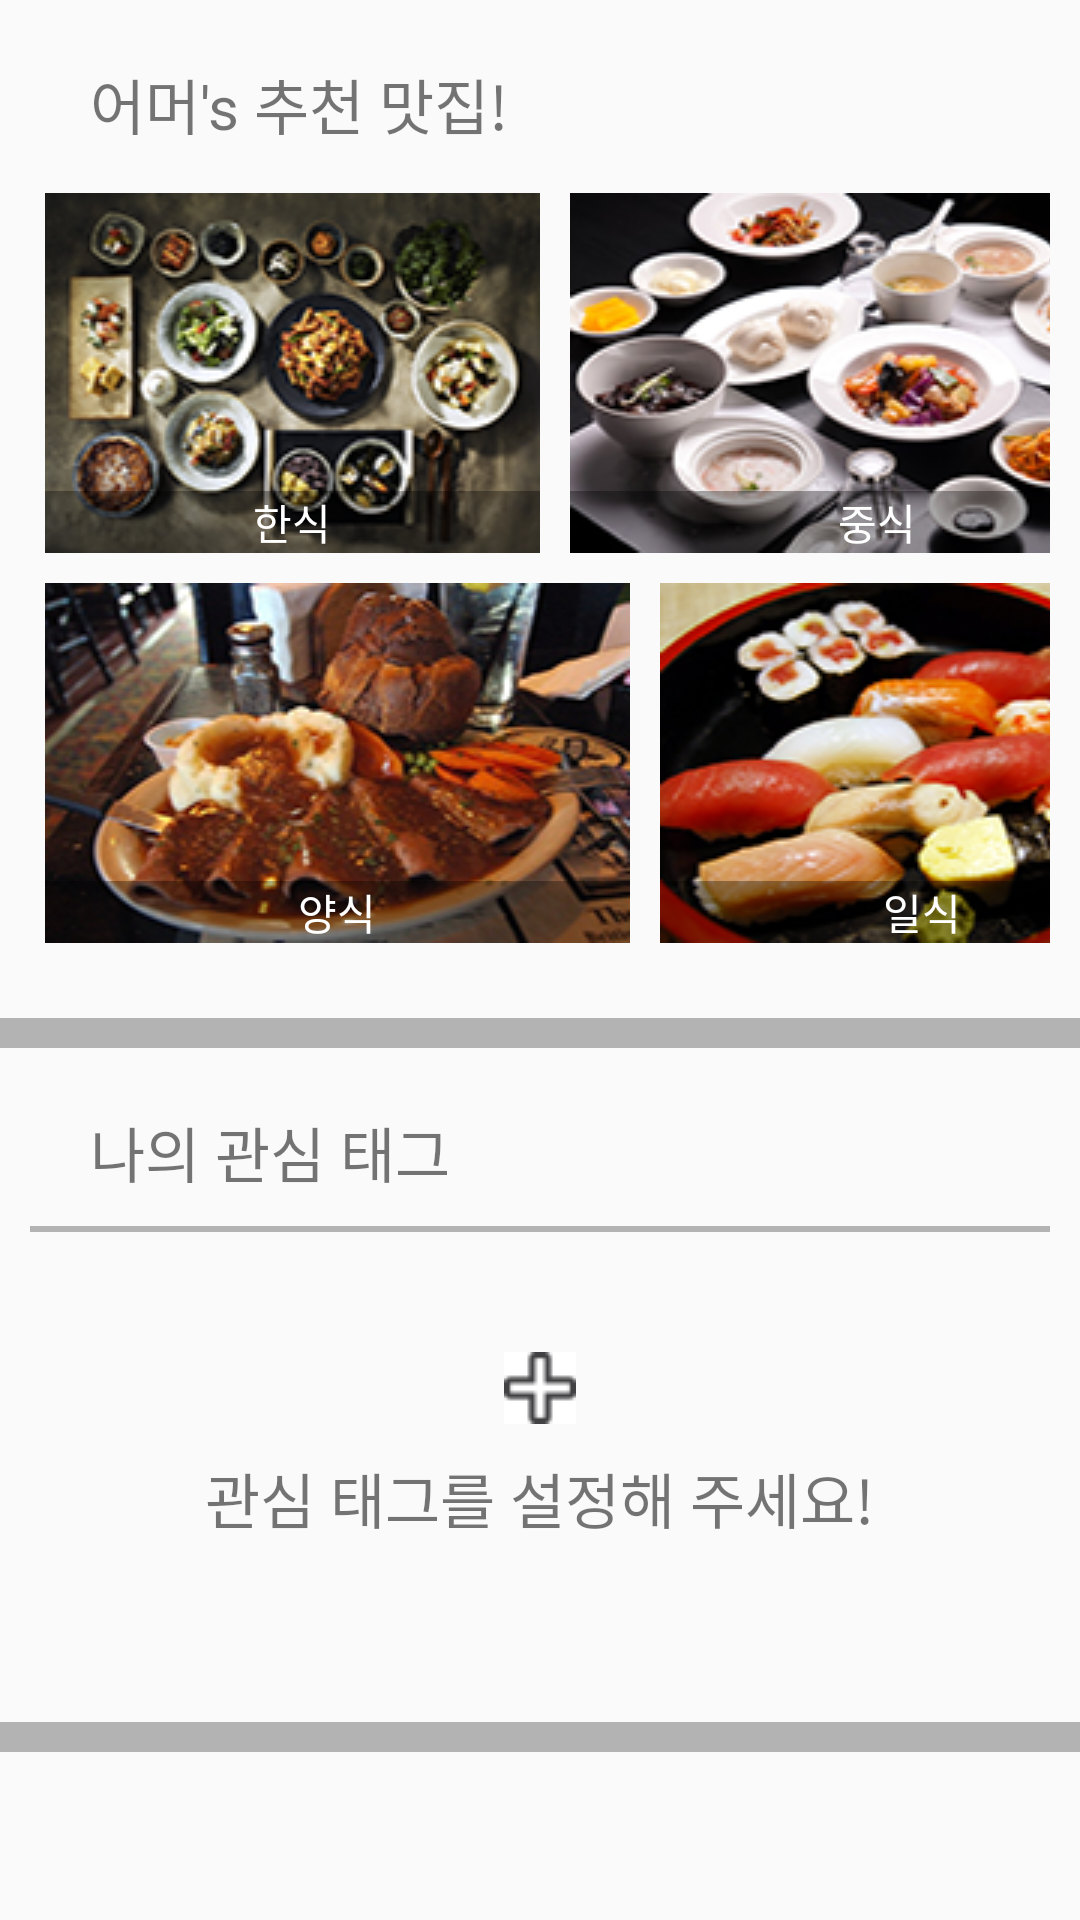

Named icons in this screenshot (1080w x 1920h) and their bounding boxes, (left=x1, top=y1, right=x2, bottom=y2):
plus: (left=504, top=1352, right=576, bottom=1424)
